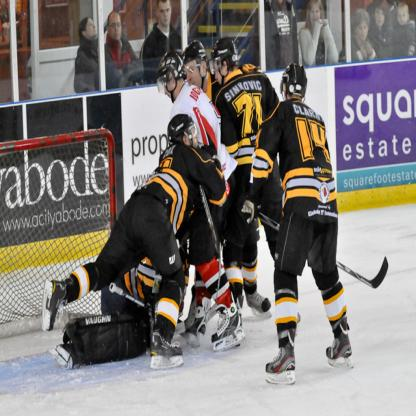Helmet: (208, 36, 238, 89), (157, 51, 187, 103), (184, 40, 208, 89), (168, 111, 198, 150), (280, 64, 309, 100)
